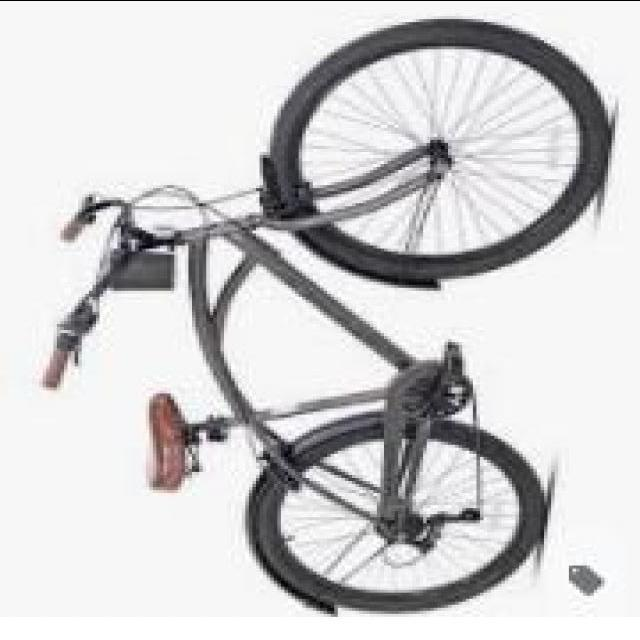bicycle: (40, 16, 598, 614)
